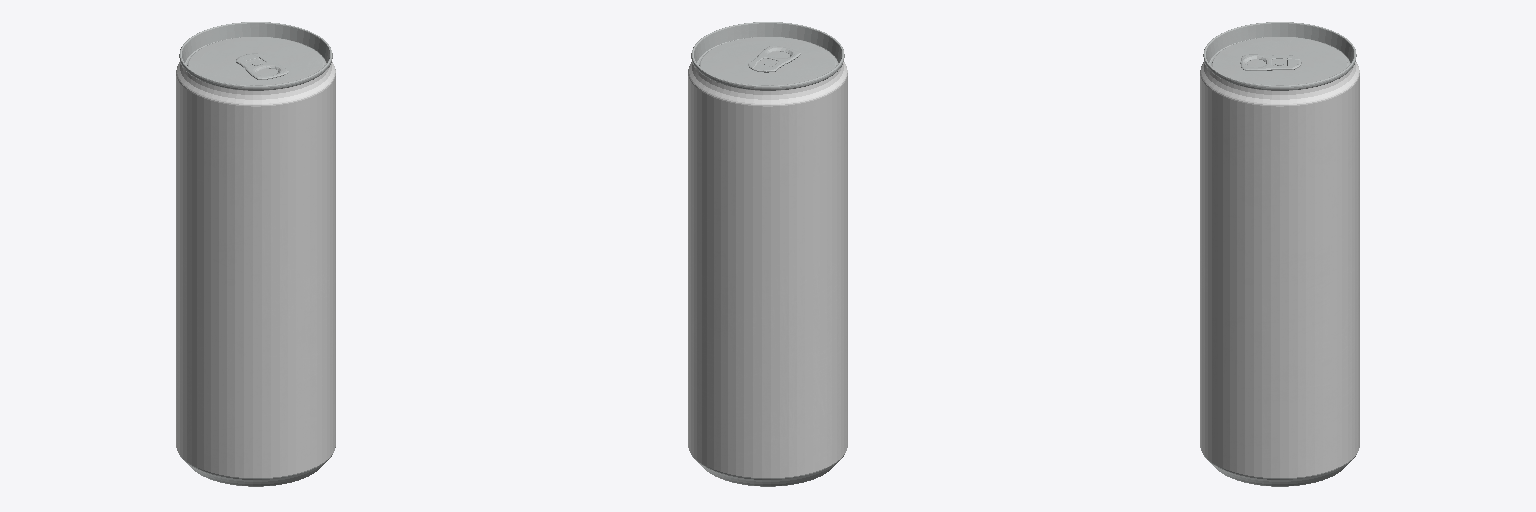
The picture shows the model from 3 angles: view 1: azimuth 30°, elevation 25°; view 2: azimuth 150°, elevation 25°; view 3: azimuth 270°, elevation 25°; orthographic projection.
Visible parts, largest first — view 1: ml_Soda_Can; view 2: ml_Soda_Can; view 3: ml_Soda_Can.
Part boxes in pixels (bbox=[...]): ml_Soda_Can: bbox=[176, 22, 335, 486]; ml_Soda_Can: bbox=[688, 22, 847, 486]; ml_Soda_Can: bbox=[1200, 22, 1359, 486].
Size of the model in its own units: 6.4 by 17.85 by 6.4.
1 materials, 1 textured.